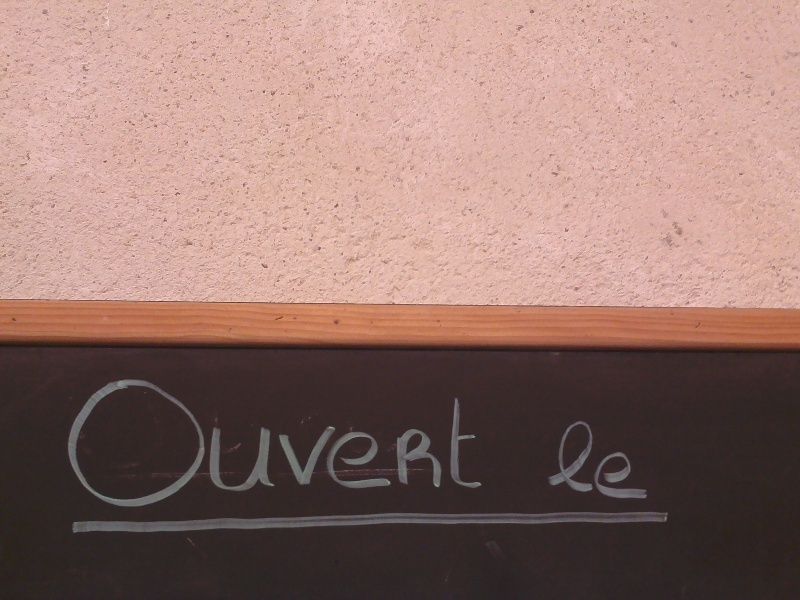text: (65, 376, 80, 510), (81, 376, 96, 510), (97, 376, 112, 510), (113, 376, 128, 510), (129, 376, 144, 510), (145, 376, 160, 510), (161, 376, 176, 510), (177, 376, 192, 510), (193, 376, 208, 510), (209, 376, 224, 510), (225, 376, 240, 510), (241, 376, 256, 510), (257, 376, 272, 510), (273, 376, 288, 510), (289, 376, 304, 510), (305, 376, 320, 510), (321, 376, 336, 510), (337, 376, 352, 510), (353, 376, 368, 510), (369, 376, 384, 510), (385, 376, 400, 510), (401, 376, 416, 510), (417, 376, 432, 510), (433, 376, 448, 510), (449, 376, 464, 510), (465, 376, 480, 510), (545, 418, 560, 501), (561, 418, 576, 501), (577, 418, 592, 501), (593, 418, 608, 501), (609, 418, 624, 501), (625, 418, 640, 501), (641, 418, 652, 501), (481, 376, 486, 510), (543, 418, 544, 501)
